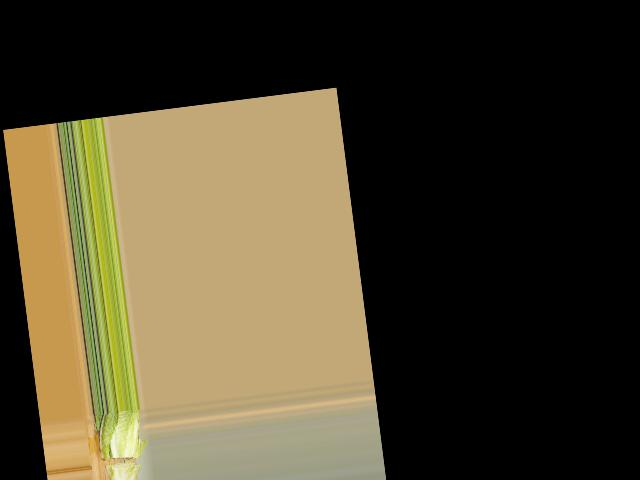lettuce: (90, 409, 151, 480)
